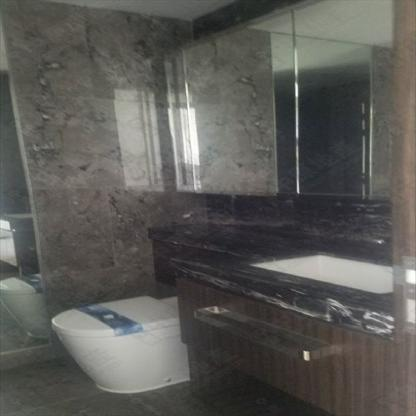Toilet: (48, 295, 192, 394), (0, 274, 52, 339)
Toilet Sink: (250, 251, 399, 294)
